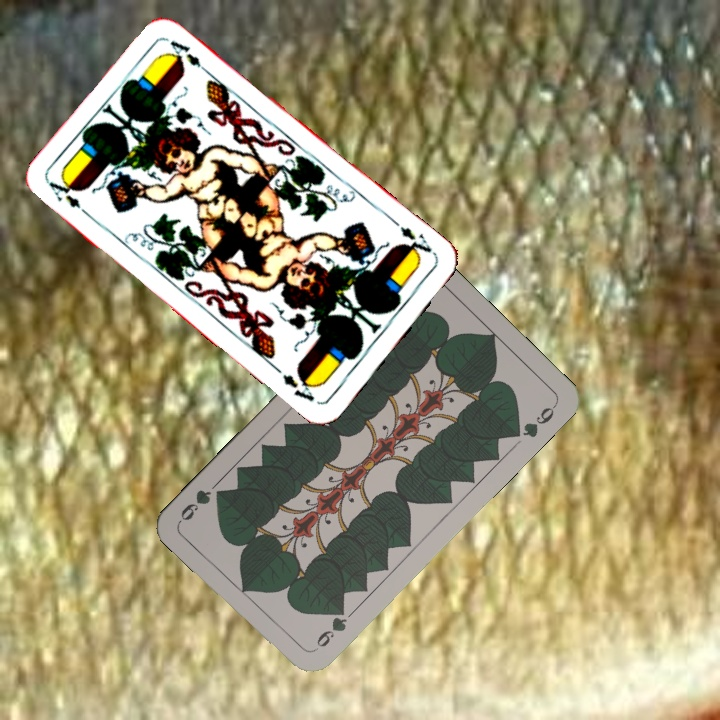EA: (395, 222, 435, 261), (45, 174, 83, 212)
G9: (309, 601, 356, 654)
